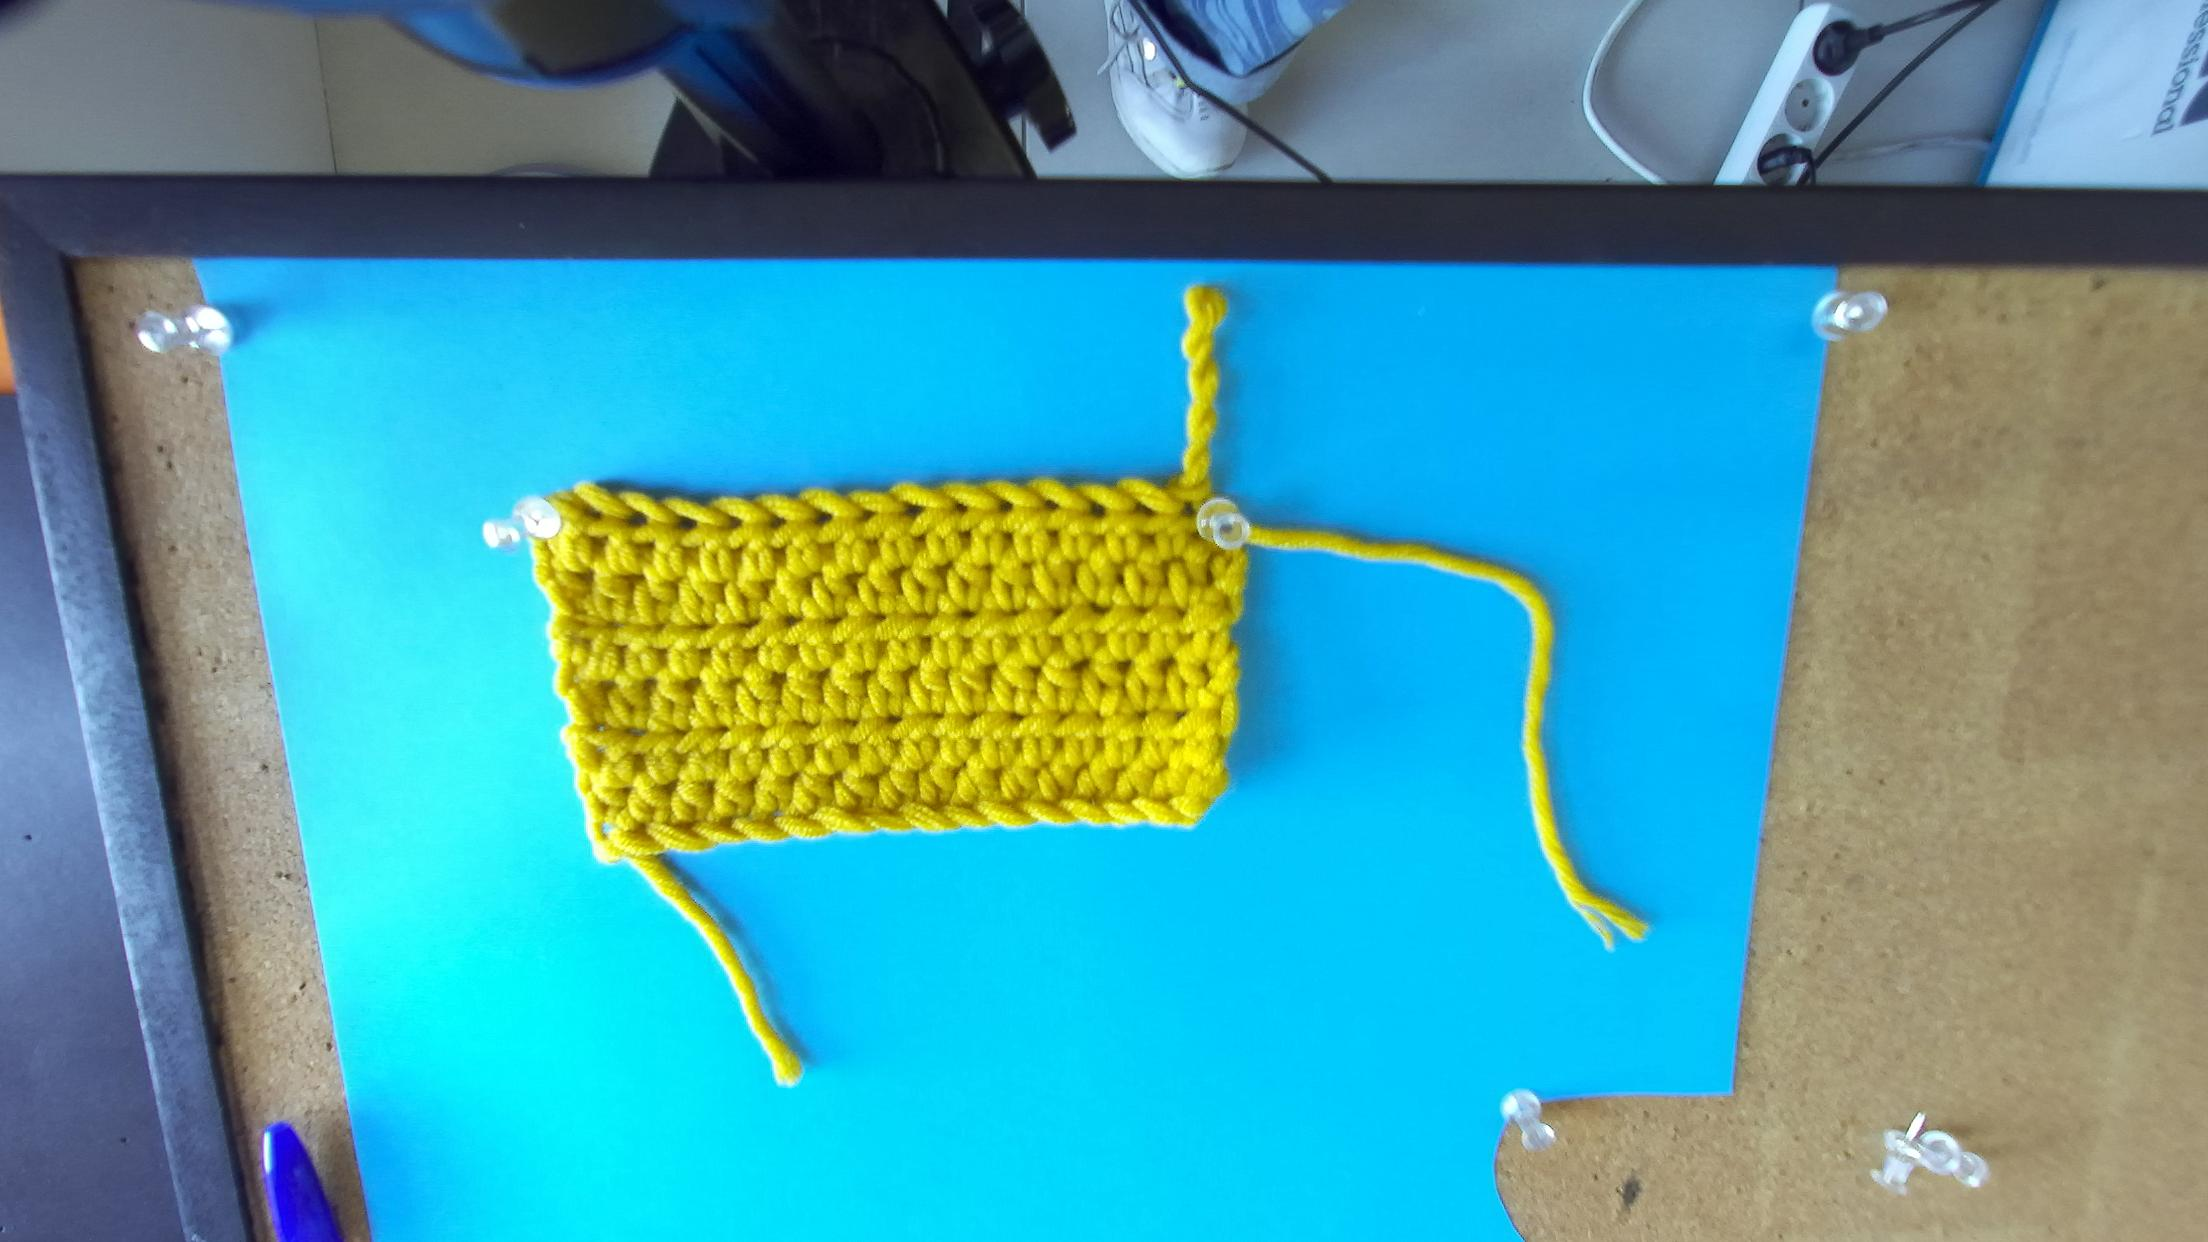hole: (672, 514, 698, 532), (1131, 499, 1157, 517), (579, 500, 602, 520), (625, 510, 648, 528), (1087, 500, 1106, 522), (904, 502, 927, 519), (1178, 500, 1198, 519), (813, 510, 833, 526), (767, 513, 789, 528), (855, 508, 877, 523), (726, 514, 743, 529), (952, 502, 969, 517), (1043, 499, 1060, 513), (999, 500, 1013, 514)
swatch: (490, 464, 1257, 869)
